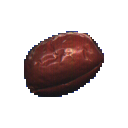ng: (18, 25, 112, 106)
